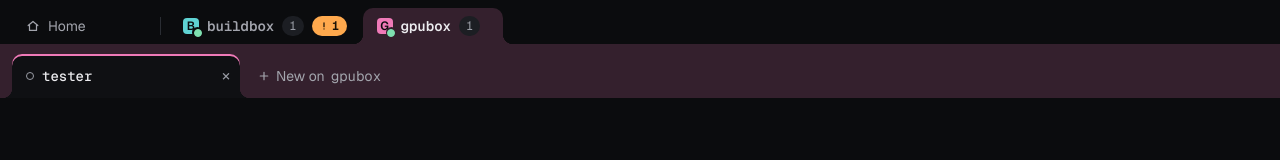
TabStrip › closing_the_last_tab_of_a_workbox_removes_its_workbox_tab_and_goes_home
Expected: the button with aria-label "gpubox," is shown, [362,8,502,44]
Click the button named "Close tab tester". click: point(226, 76)
box: [218,68,234,84]
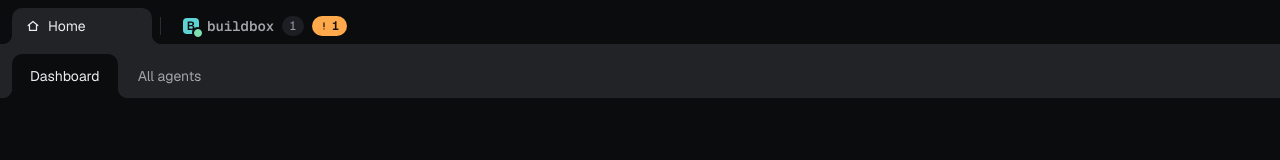
Expected: the navigation bar named "Home views" is shown, [0,44,1279,98]
Expected: the navigation bar "Tabs" is gone
